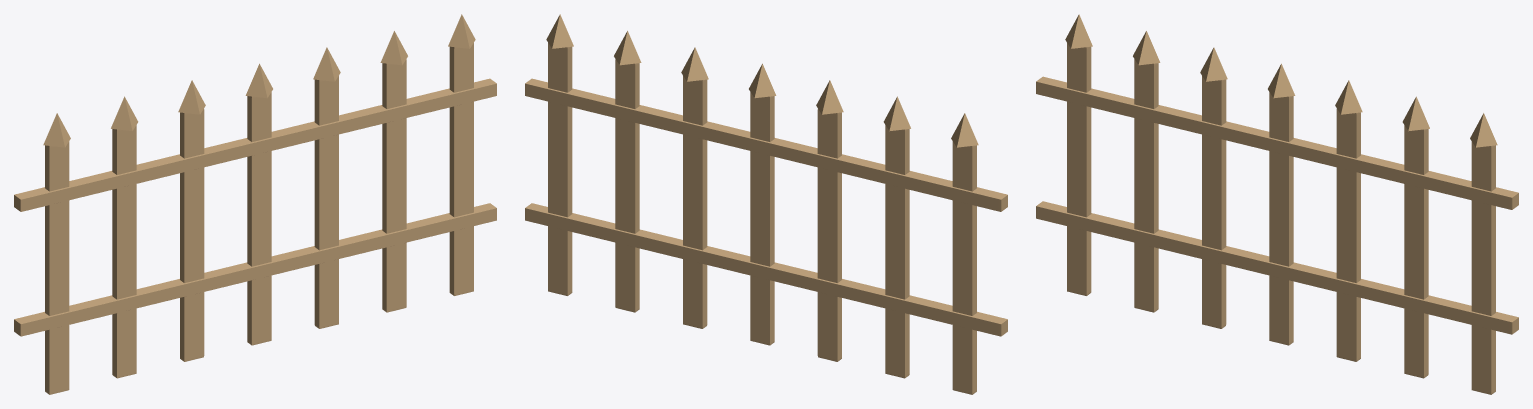
Rendered from wood_fence.glb.
3 renders of one model, left to right at view 1: azimuth 30°, elevation 25°; view 2: azimuth 150°, elevation 25°; view 3: azimuth 330°, elevation 25°, orthographic.
Visible parts, largest first — view 1: wood_fence; view 2: wood_fence; view 3: wood_fence.
Part boxes in pixels (<box>): wood_fence: <box>14,14,496,394</box>; wood_fence: <box>525,14,1007,394</box>; wood_fence: <box>1036,14,1518,394</box>.
Size of the model in its own units: 2.4 by 1.34 by 0.14.
